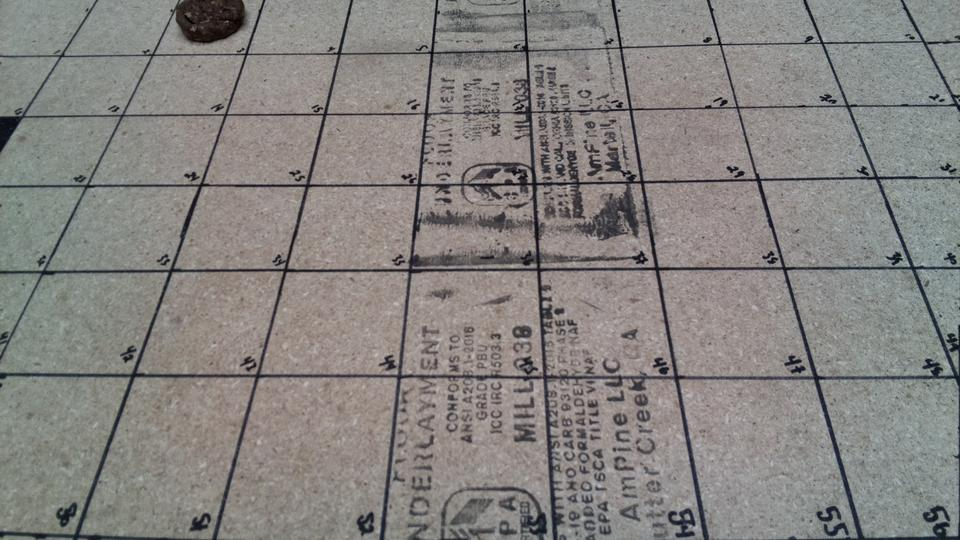poop: (173, 1, 246, 44)
